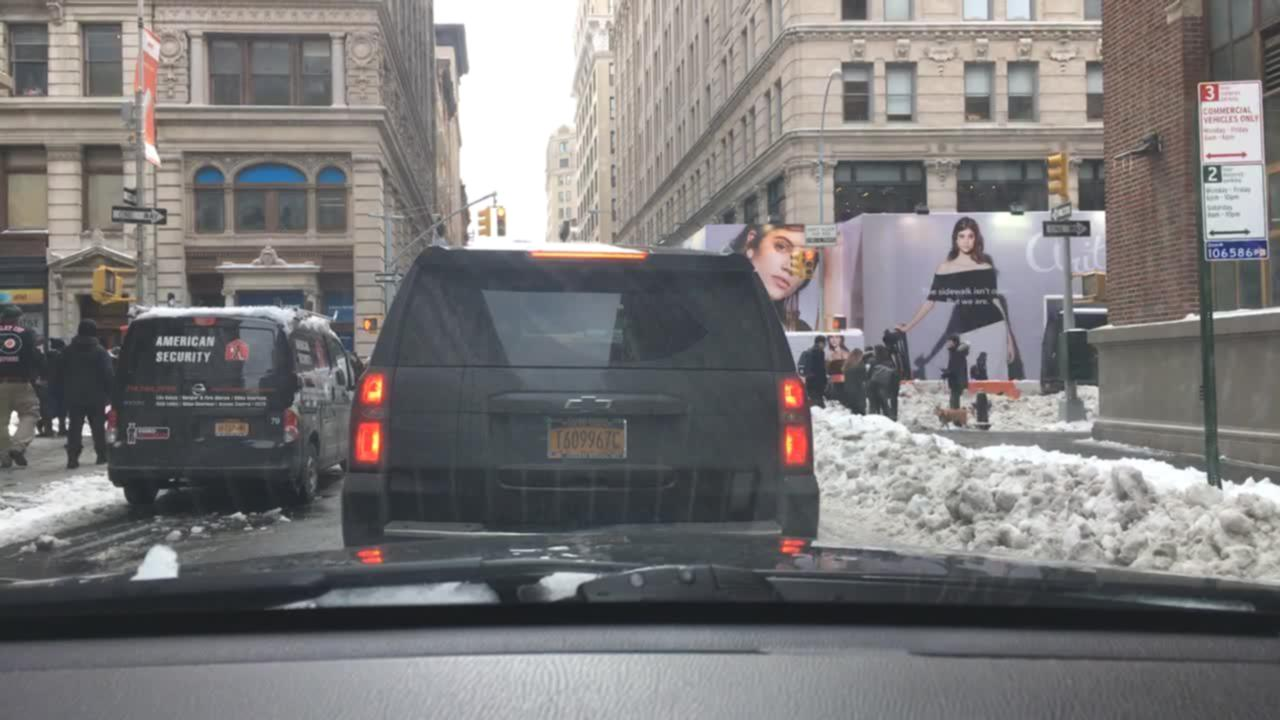Nissan: (187, 380, 212, 399)
chevrolet: (551, 388, 627, 416)
